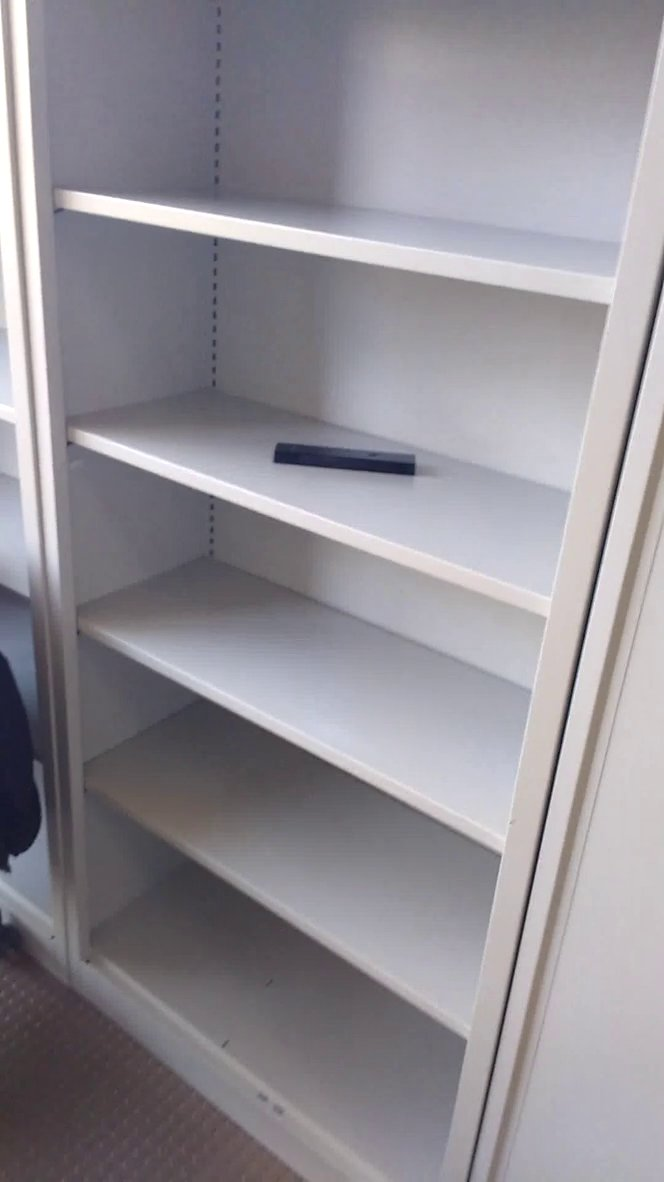remote: (266, 429, 427, 487)
